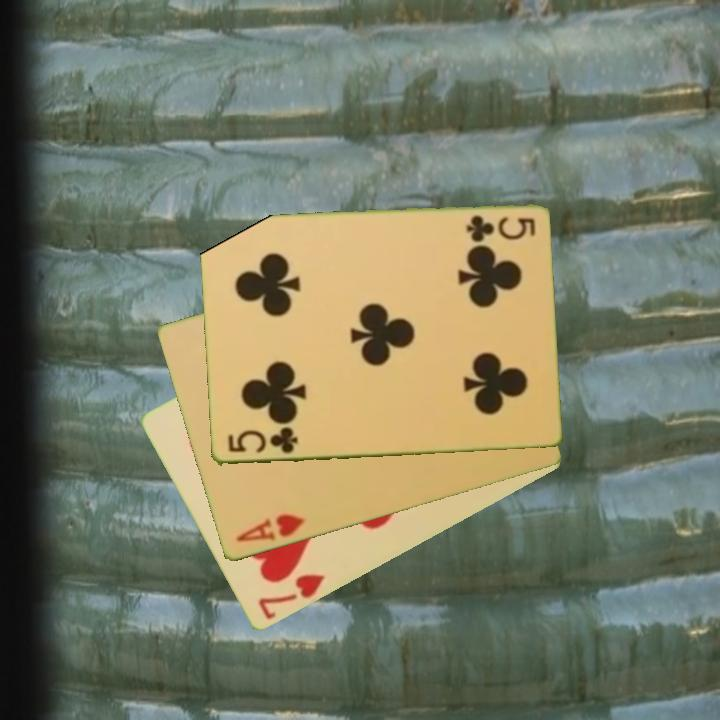5c: (224, 424, 300, 457), (462, 212, 538, 242)
7h: (254, 571, 328, 623)
Ah: (232, 511, 308, 546)
